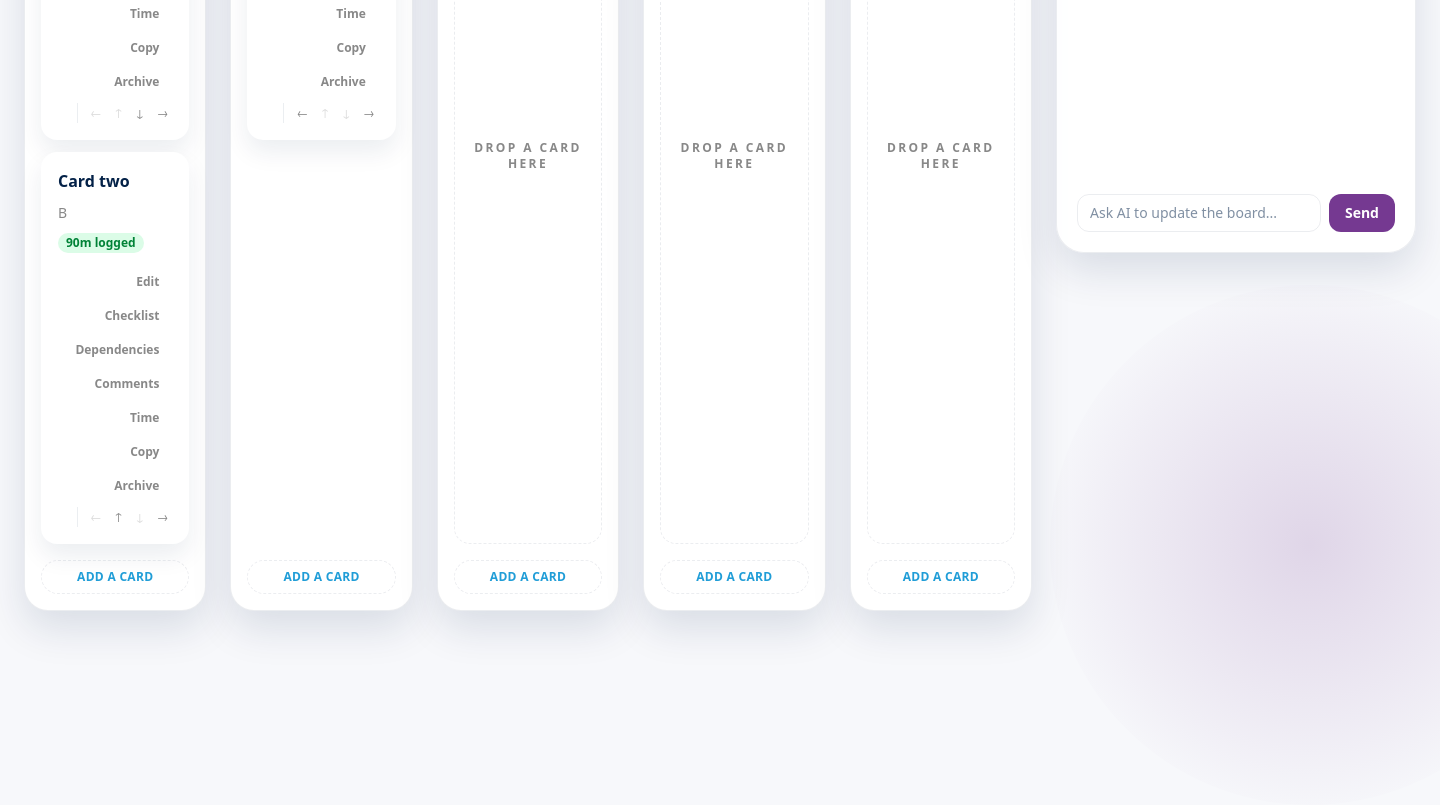
Test: KanbanBoard › shows error when add card fails
(page scrolled)
Click the 1st button "Add a card" at coordinates (115, 577), box [41,560,189,594]
(page scrolled)
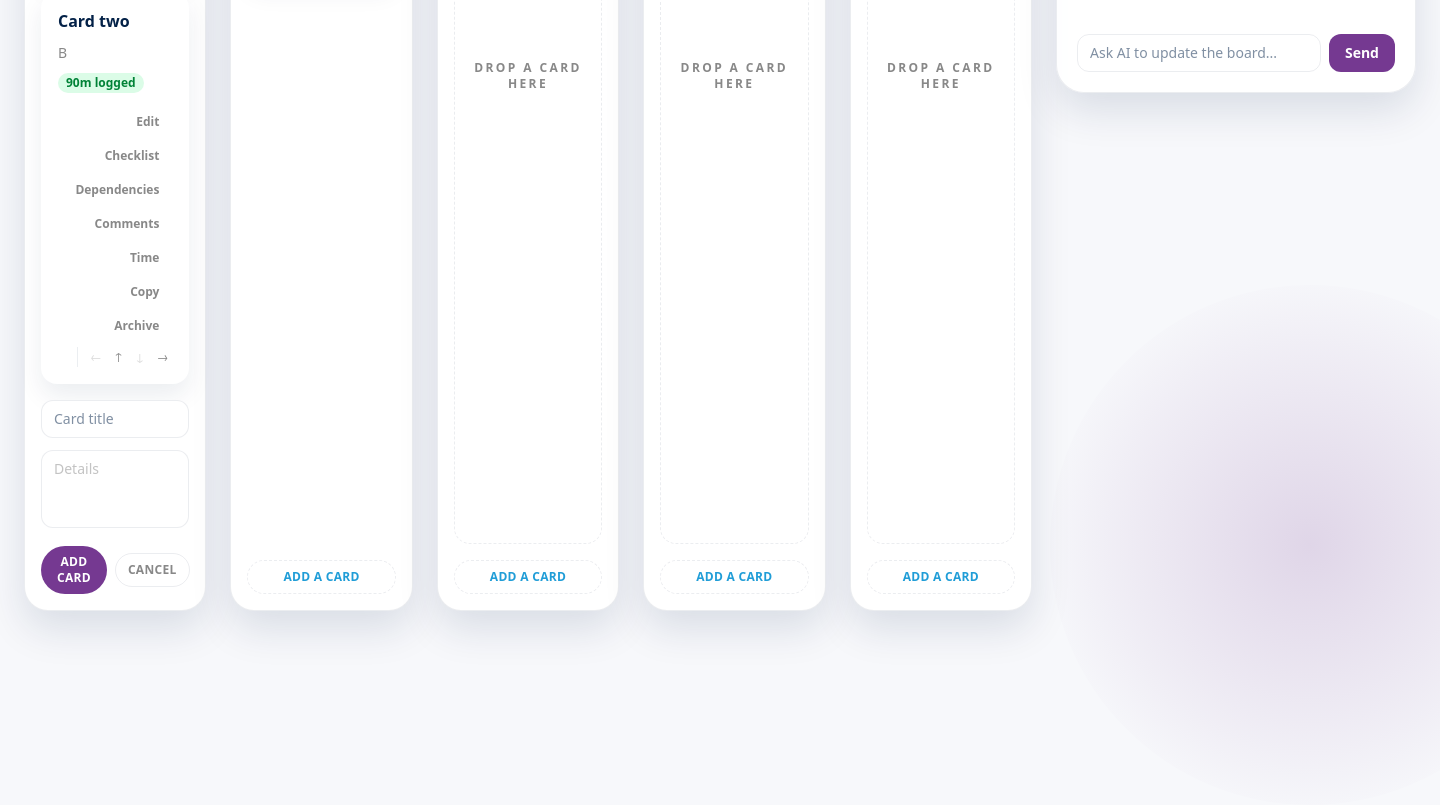
Type "Failing card" into the field with placeholder "Card title" at coordinates (115, 419), box [41,400,189,438]
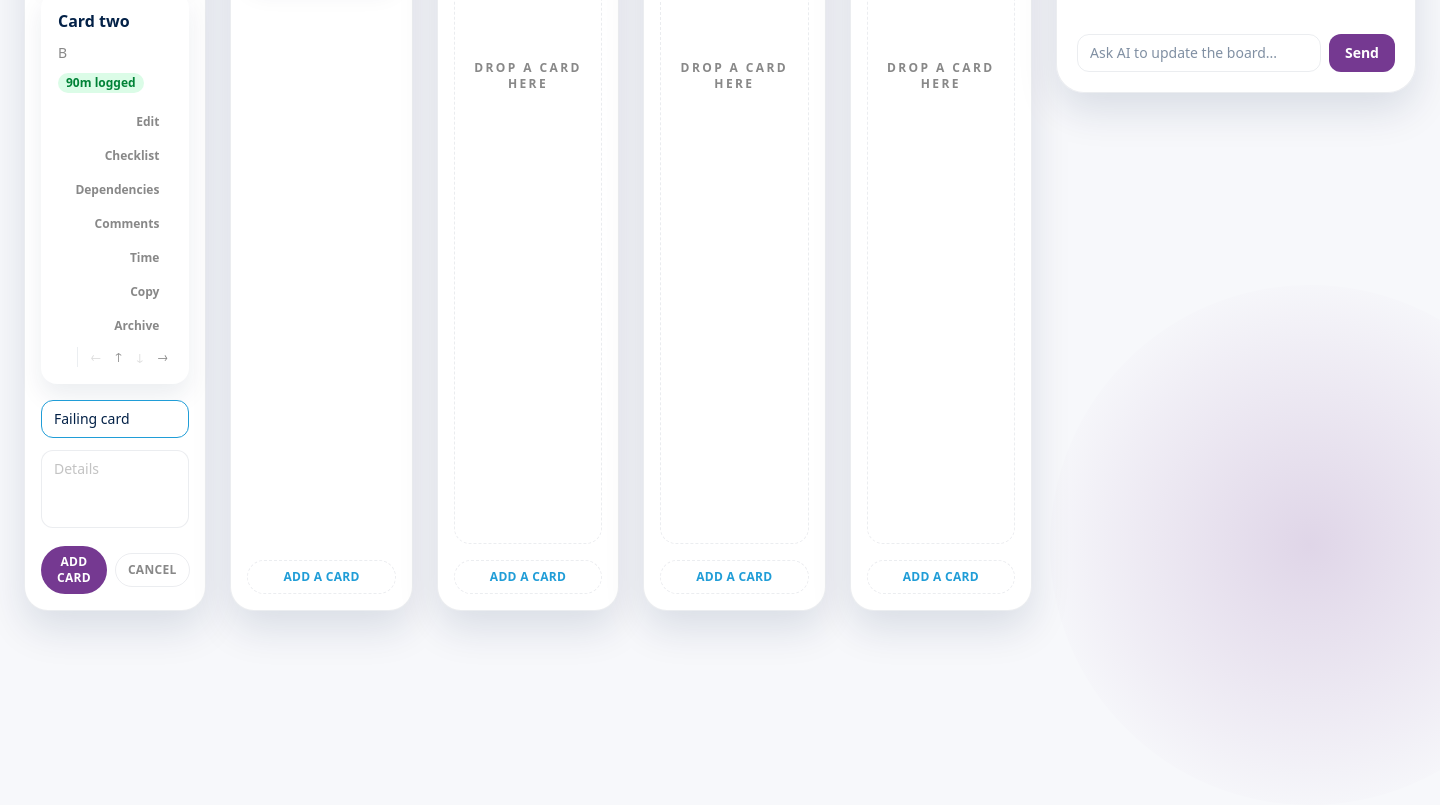
Click the button "Add card" at coordinates (74, 570), box [41,546,107,594]
(page scrolled)
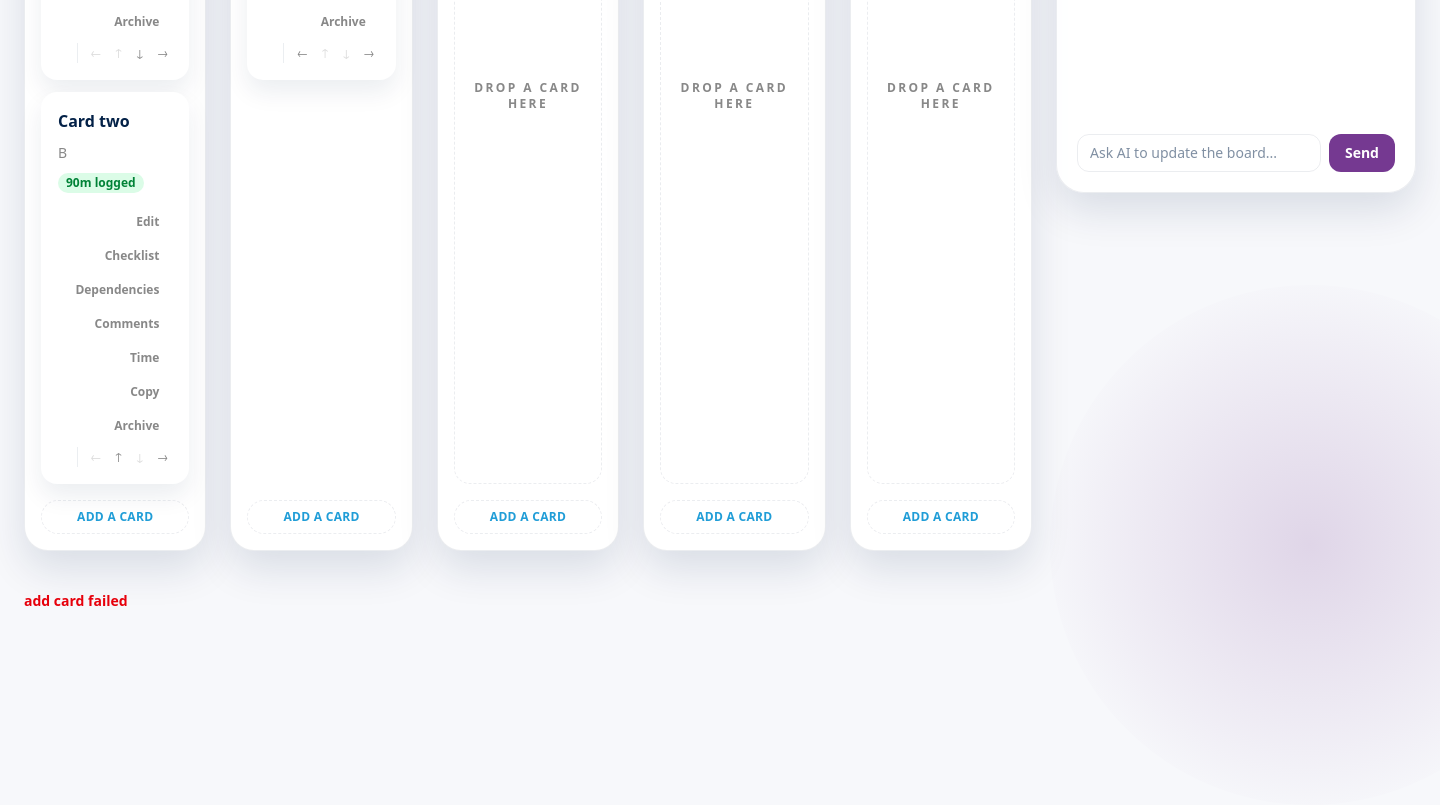
Check: the message reads "add card failed", box [24,591,128,610]
